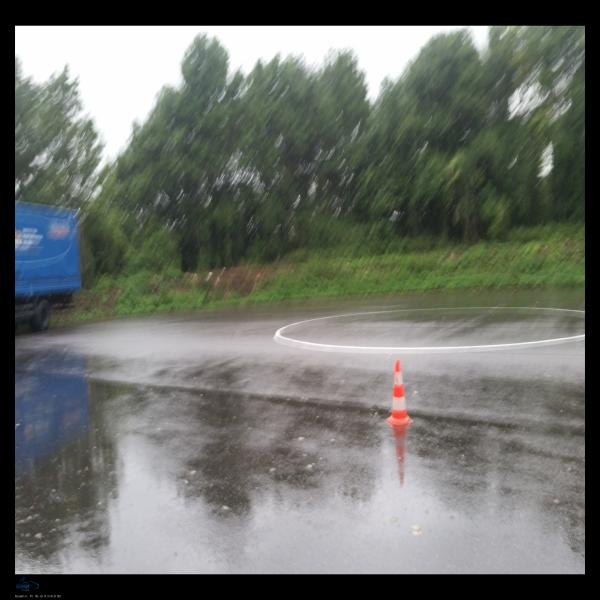large_orange_cone: (387, 359, 413, 426)
